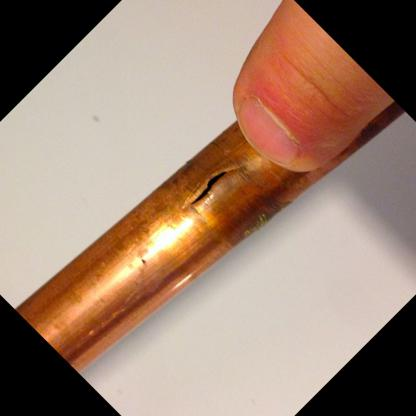burst: (187, 159, 251, 221)
